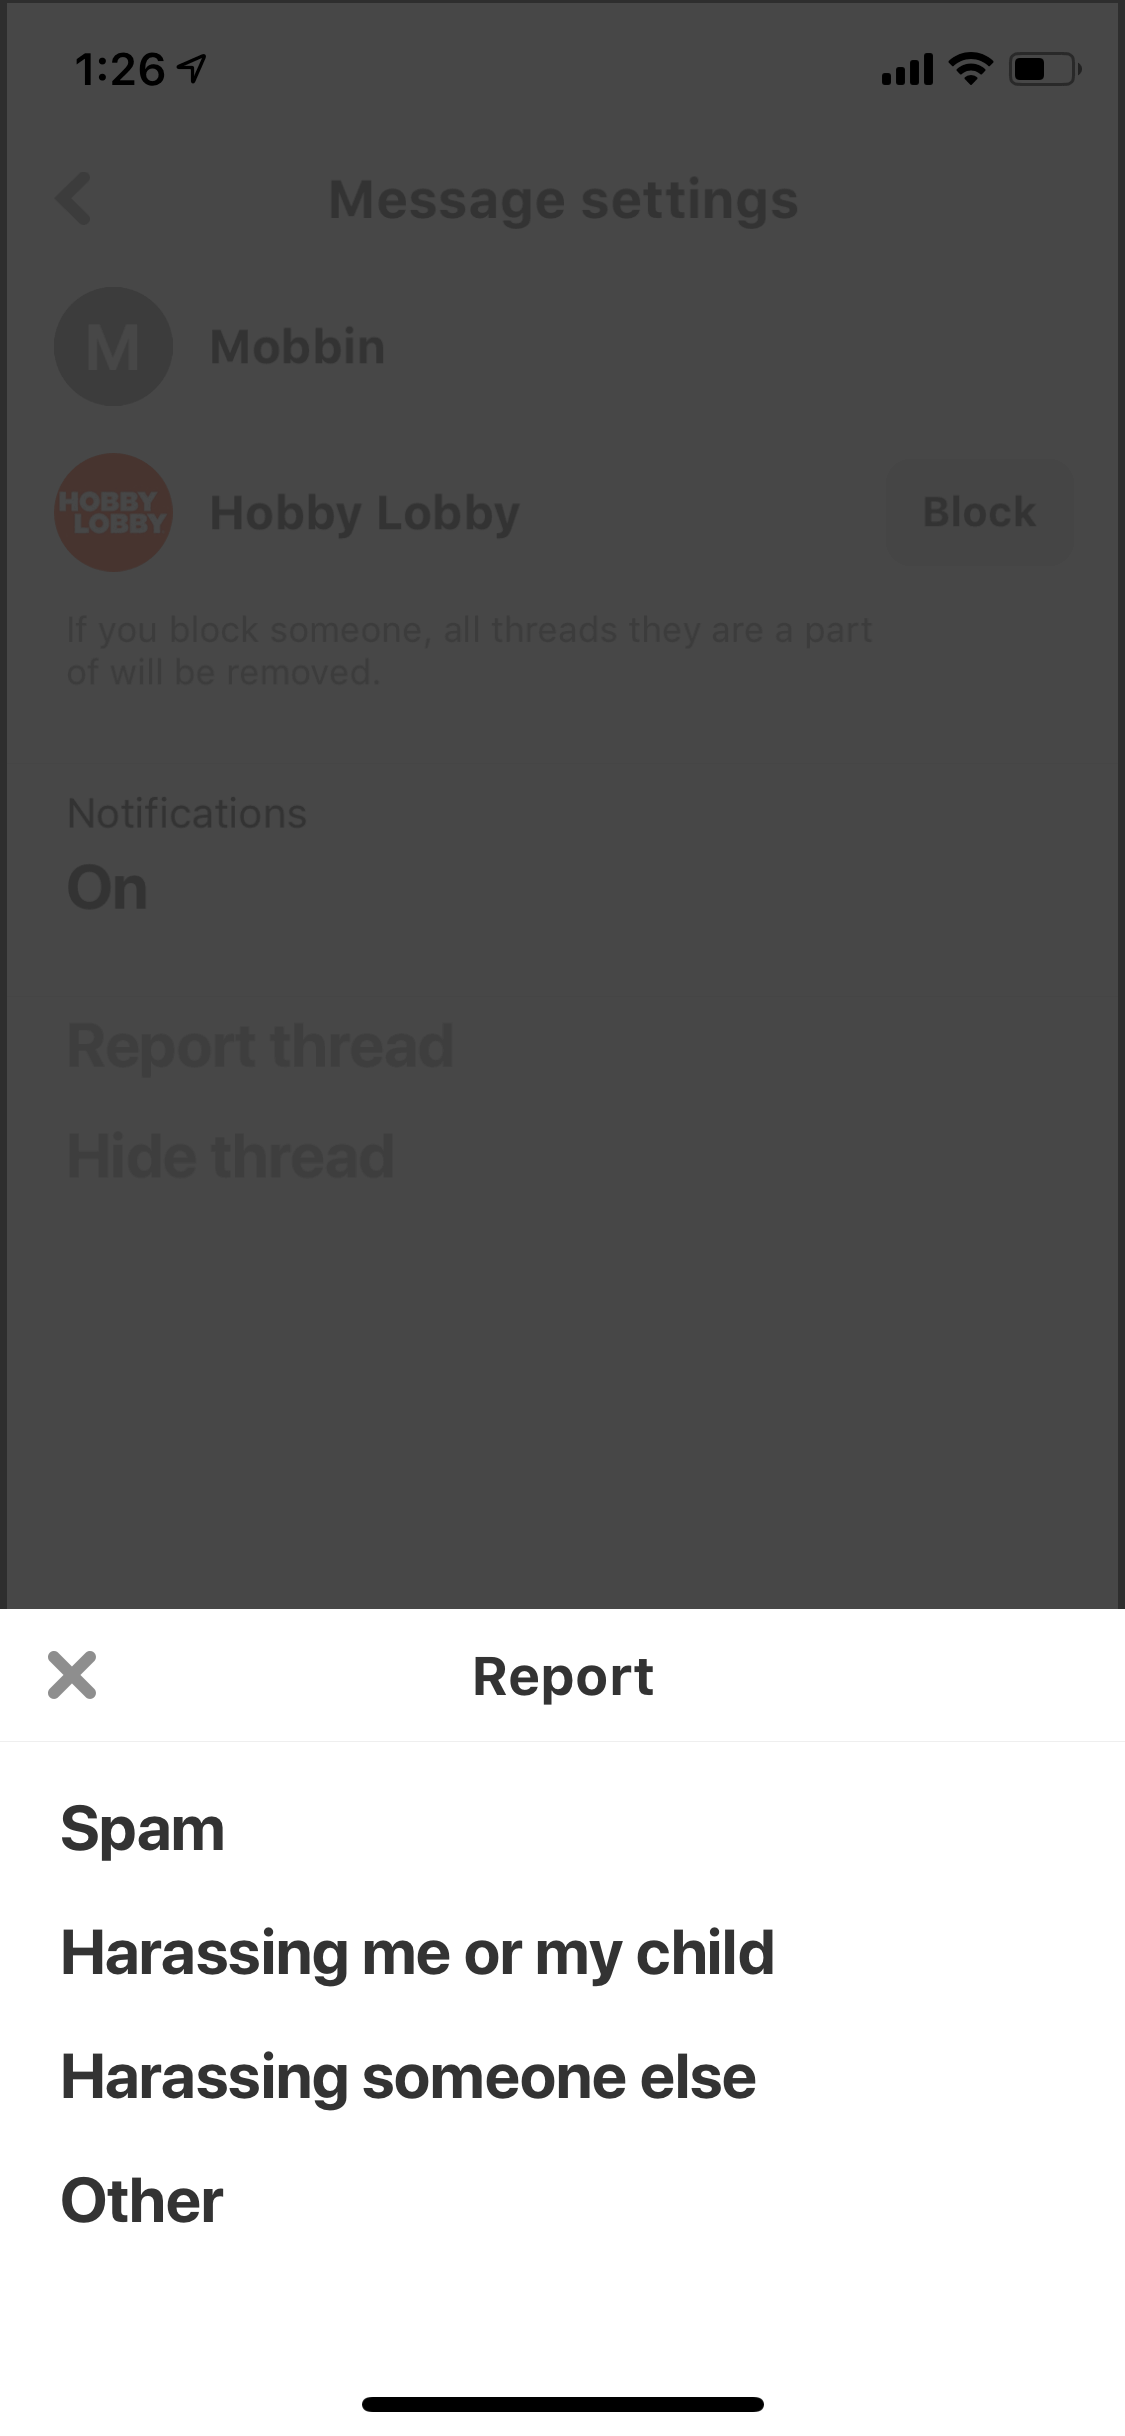Buttons: (872, 449, 1088, 579), (8, 130, 140, 256), (8, 1616, 134, 1734)
